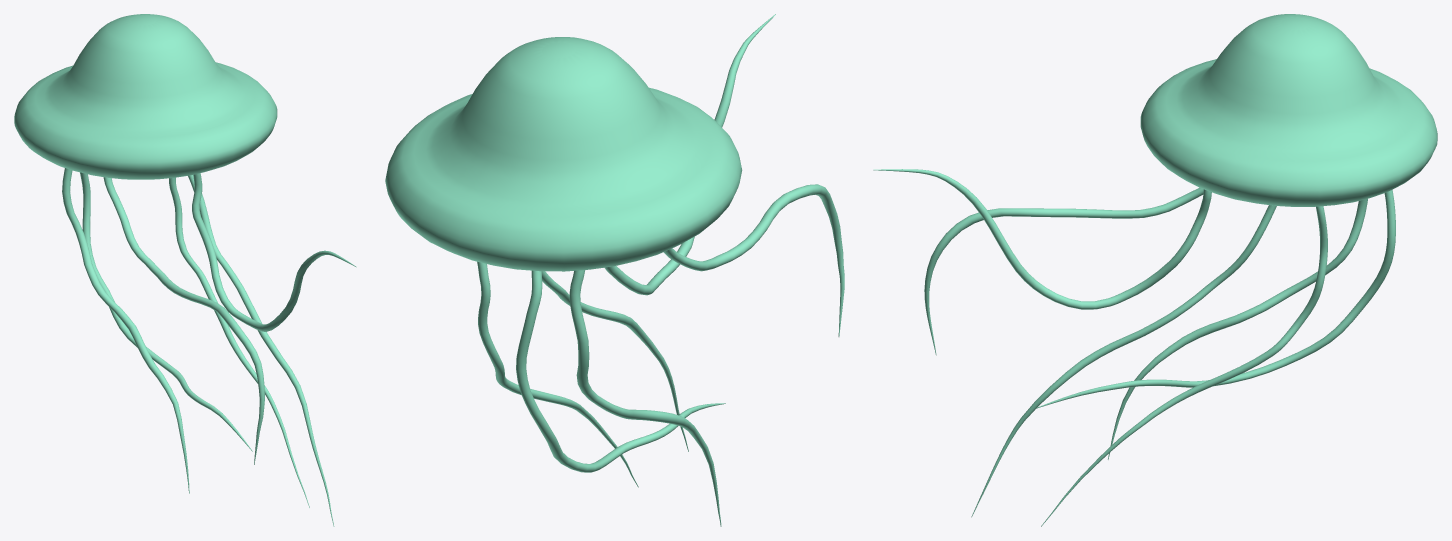
File: Jellyfish2.fbx
The picture shows the model from 3 angles, left to right: view 1: azimuth 30°, elevation 25°; view 2: azimuth 150°, elevation 25°; view 3: azimuth 270°, elevation 25°; orthographic projection. The views are drawn at different scales.
Visible parts, largest first — view 1: jellyfish2; view 2: jellyfish2; view 3: jellyfish2.
Boxes of the visible parts, box(x1,y1,x2,y2) form: jellyfish2: box(14, 14, 356, 526); jellyfish2: box(385, 14, 844, 526); jellyfish2: box(873, 14, 1437, 526).
Size of the model in its own units: 1995 by 3508 by 3783.
